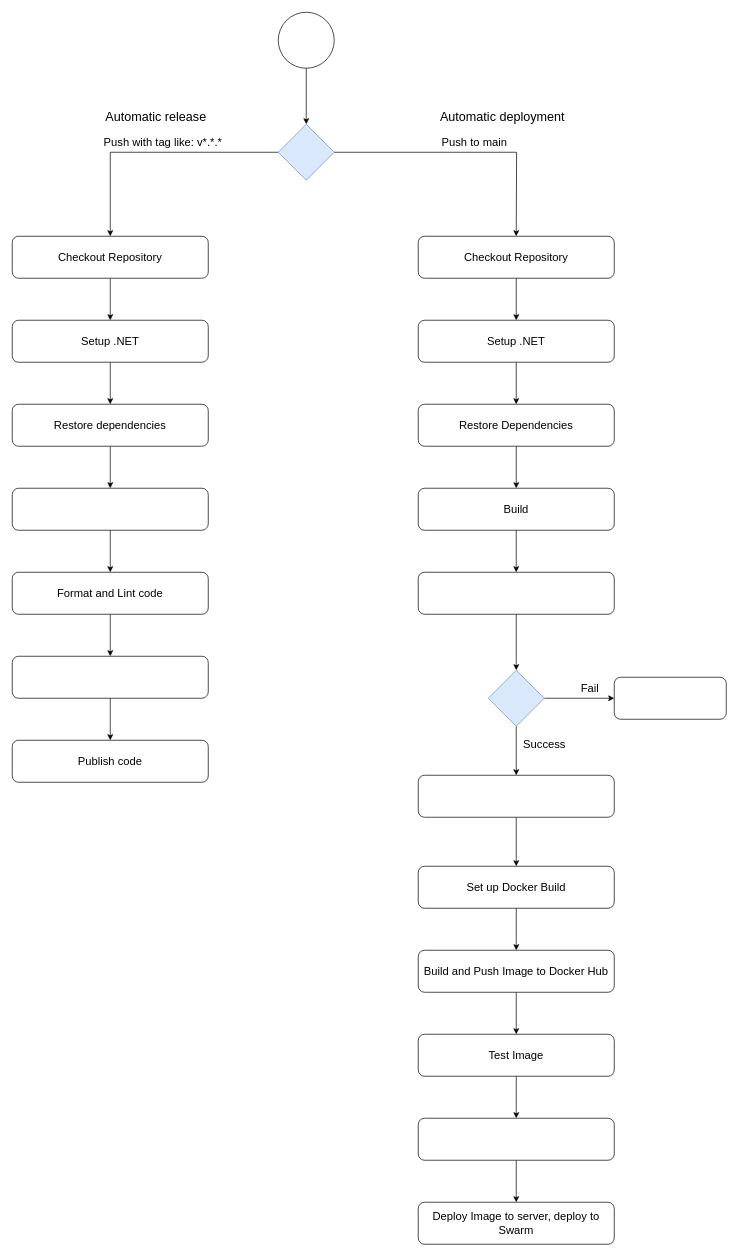
The diagram is 739 pixels wide and 1257 high, and some of its shapes have lost their labels. Here are the shapes that lost their labels. From the top down, the centre of each, then its label:
At pixel 110 509: "Determine Tag".
At pixel 516 593: "Test".
At pixel 110 677: "Build for target systems".
At pixel 670 698: "Abort deployment".
At pixel 516 796: "Login to Docker Hub".
At pixel 516 1139: "Configure SSH".
